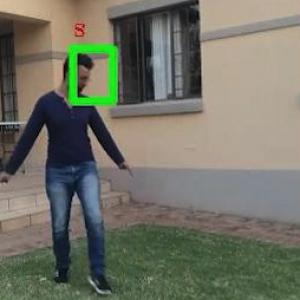land: (0, 42, 157, 299)
